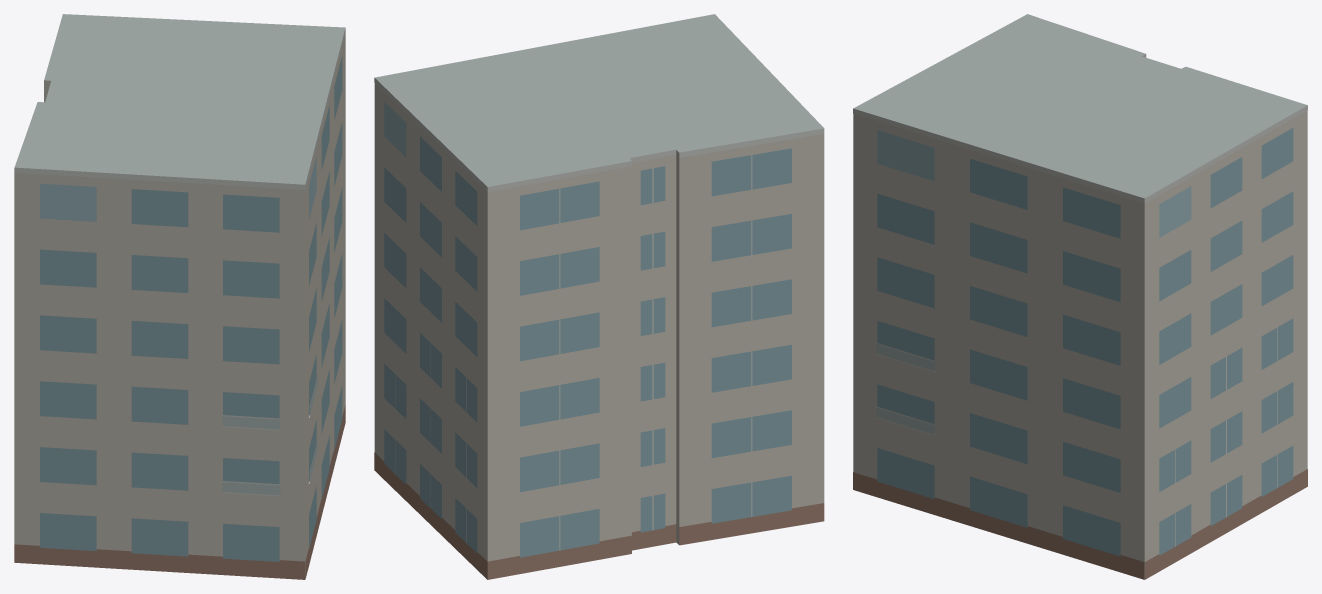
Rendered from survey-upis-32970099.glb.
3 renders of one model, left to right at view 1: azimuth 30°, elevation 25°; view 2: azimuth 150°, elevation 25°; view 3: azimuth 270°, elevation 25°, orthographic. The views are drawn at different scales.
Visible parts, largest first — view 1: survey-upis-32970099.tmp; view 2: survey-upis-32970099.tmp; view 3: survey-upis-32970099.tmp.
Boxes of the visible parts, x1,y1,x2,y2 form: survey-upis-32970099.tmp: (14,14,345,579); survey-upis-32970099.tmp: (374,14,824,579); survey-upis-32970099.tmp: (853,14,1307,579).
Size of the model in its own units: 19 by 18.3 by 19.78.
